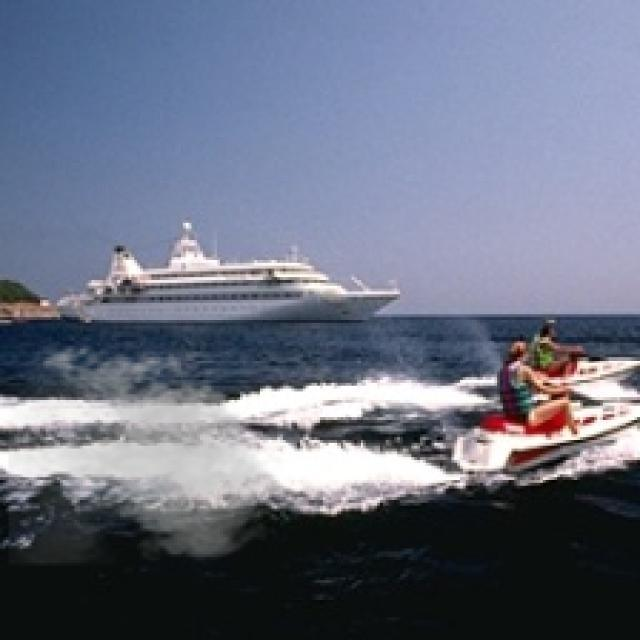Smoke: (8, 340, 288, 566)
